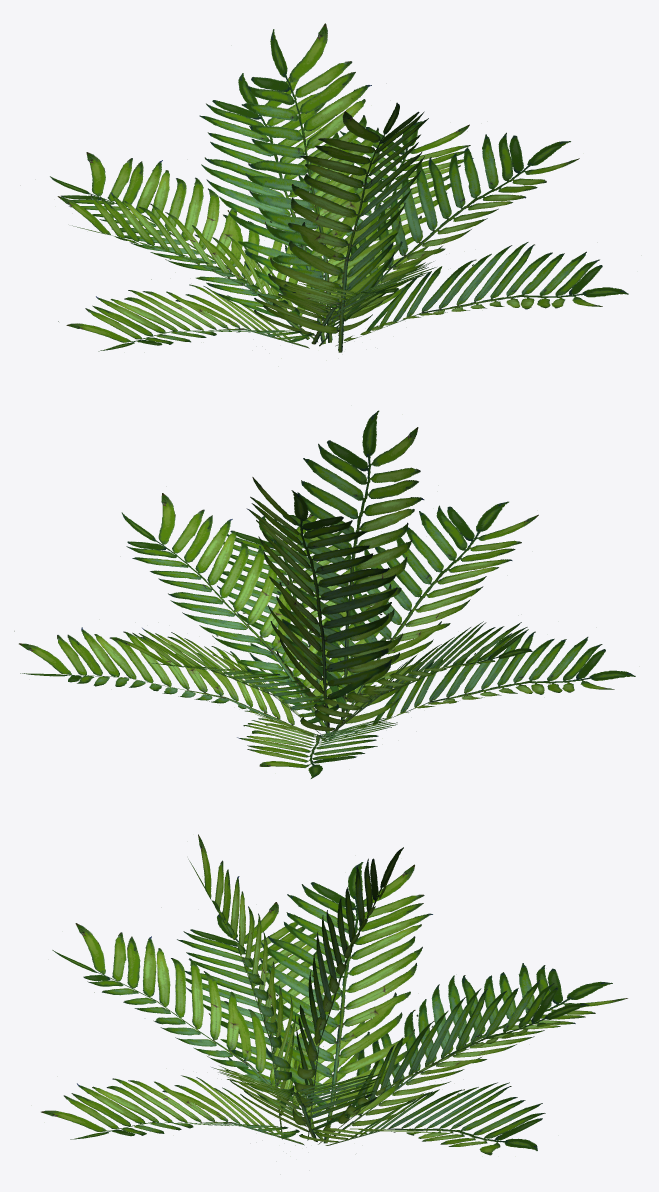
The model's file is mini palm1.FBX.
3 renders of one model, top to bottom at view 1: azimuth 30°, elevation 25°; view 2: azimuth 150°, elevation 25°; view 3: azimuth 270°, elevation 25°, orthographic. The views are drawn at different scales.
Visible parts, largest first — view 1: mini palm1; view 2: mini palm1; view 3: mini palm1.
Part boxes in pixels (x1,y1,x2,y2): mini palm1: [50, 23, 628, 352]; mini palm1: [14, 410, 635, 778]; mini palm1: [41, 834, 627, 1155].
Size of the model in its own units: 8.34 by 4.28 by 8.28.
